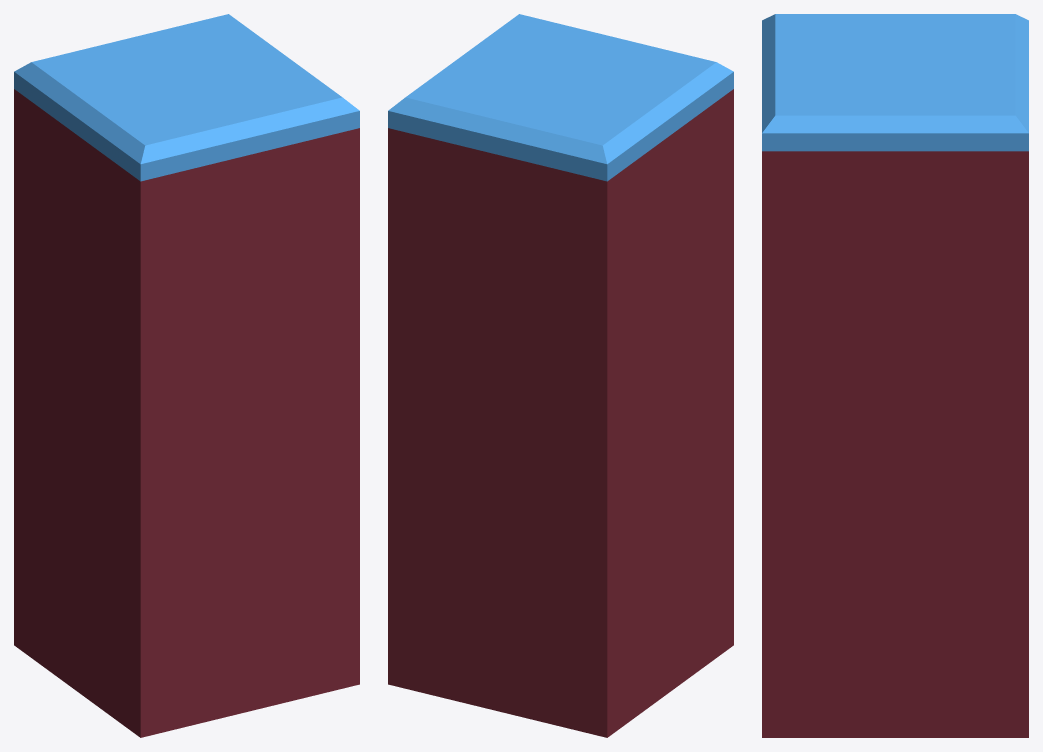
Rendered from Tile_Red_Spawner.fbx.
The picture shows the model from 3 angles, left to right: view 1: azimuth 30°, elevation 25°; view 2: azimuth 150°, elevation 25°; view 3: azimuth 270°, elevation 25°; orthographic projection. The views are drawn at different scales.
Parts seen in each view (by area): view 1: Cube; view 2: Cube; view 3: Cube.
Part boxes in pixels (x1,y1,x2,y2): Cube: (14, 14, 359, 737); Cube: (388, 14, 733, 737); Cube: (762, 14, 1028, 737).
Size of the model in its own units: 2 by 5.1 by 2.
